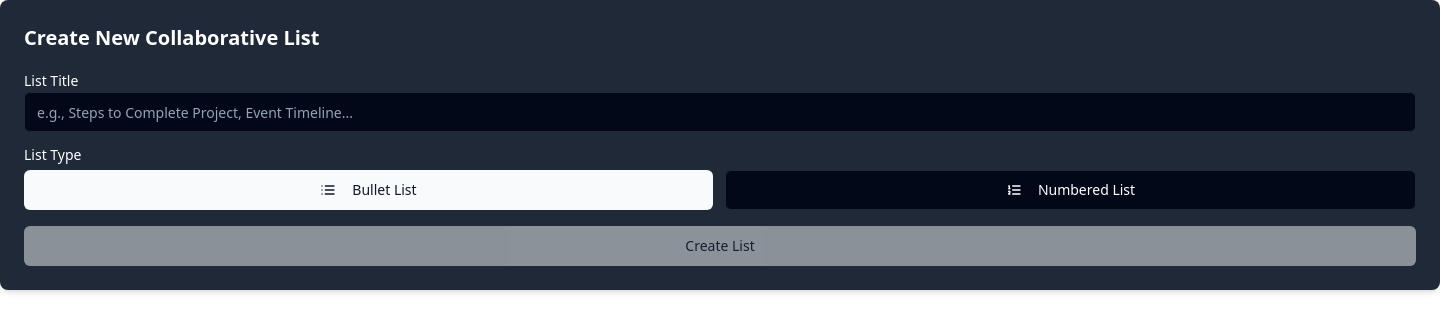
Test: ListCreatorForm › should enable create button only when title is entered
Expected: the button "Create List" is disabled, [24, 226, 1416, 266]
Type "My List" into the field labelled "List Title" at (720, 112), box [24, 92, 1416, 132]
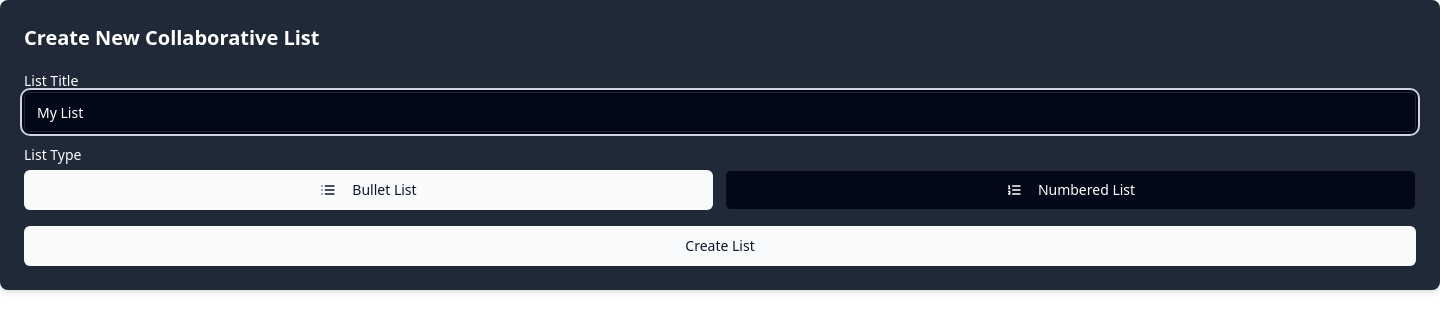
Now the button "Create List" is enabled, box [24, 226, 1416, 266]
Clear the field labelled "List Title" at (720, 112), box [24, 92, 1416, 132]
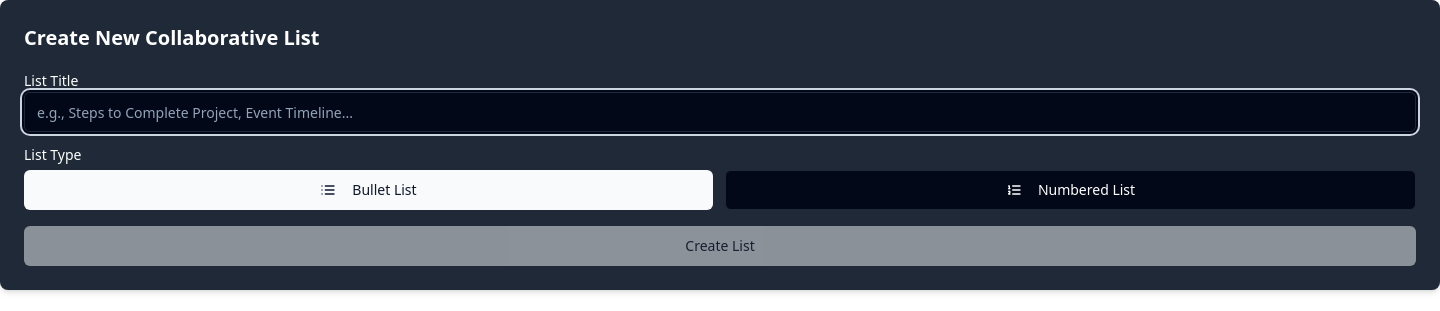
Now the button "Create List" is disabled, box [24, 226, 1416, 266]
